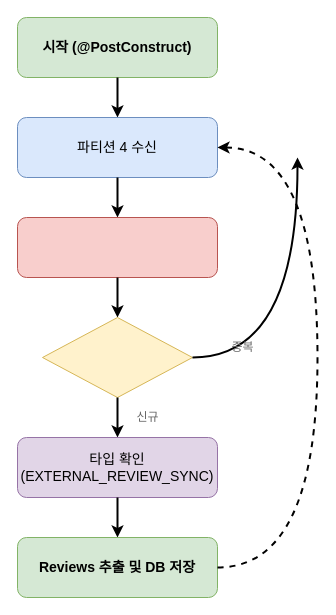
The diagram is 336 pixels wide and 615 high, and some of its shapes have lost their labels. The shapes that lost their labels are listed below. From the top down, each one's centre as x and y in pixels, then its label:
pixel 117 247: 이벤트 ID 생성
pixel 117 357: 중복 체크
